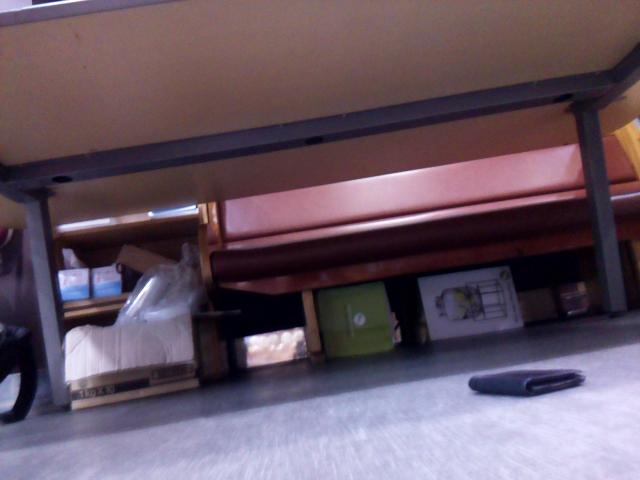wallet: (460, 357, 595, 400)
